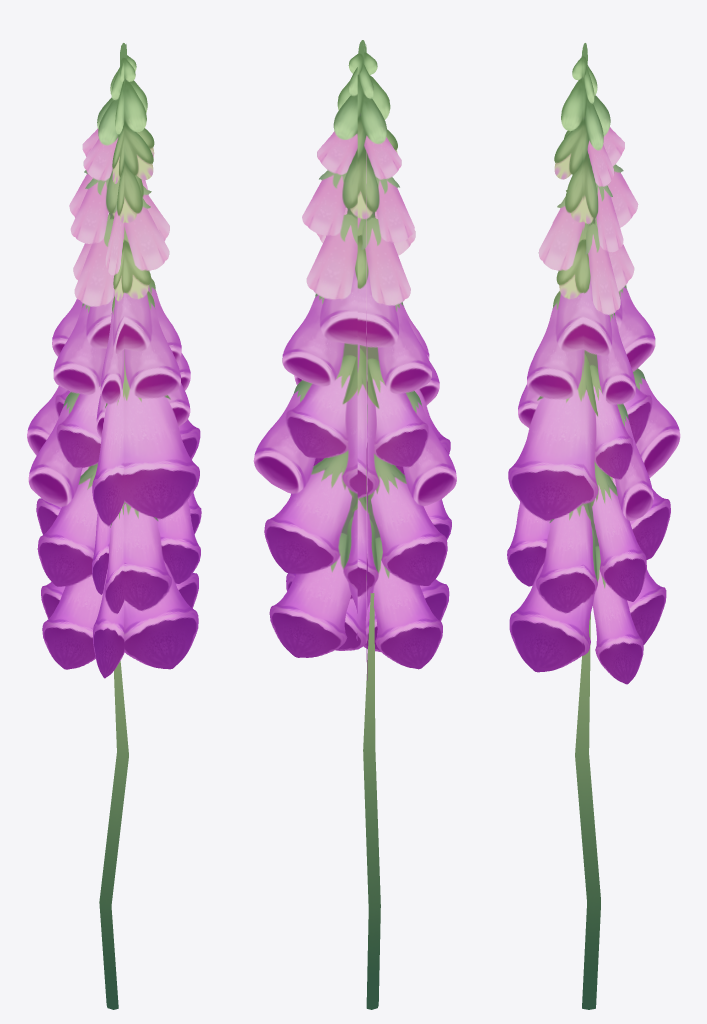
The model's file is foxglove_2_low.fbx.
The picture shows the model from 3 angles, left to right: view 1: azimuth 30°, elevation 25°; view 2: azimuth 150°, elevation 25°; view 3: azimuth 270°, elevation 25°; orthographic projection.
Parts seen in each view (by area): view 1: foxglove_2_low; view 2: foxglove_2_low; view 3: foxglove_2_low.
Boxes of the visible parts, box(x1,y1,x2,y2) form: foxglove_2_low: box(27, 43, 201, 1009); foxglove_2_low: box(253, 40, 456, 1009); foxglove_2_low: box(507, 43, 680, 1009).
Size of what is drawn, in the model's own units: 63.22 by 307 by 54.42.
